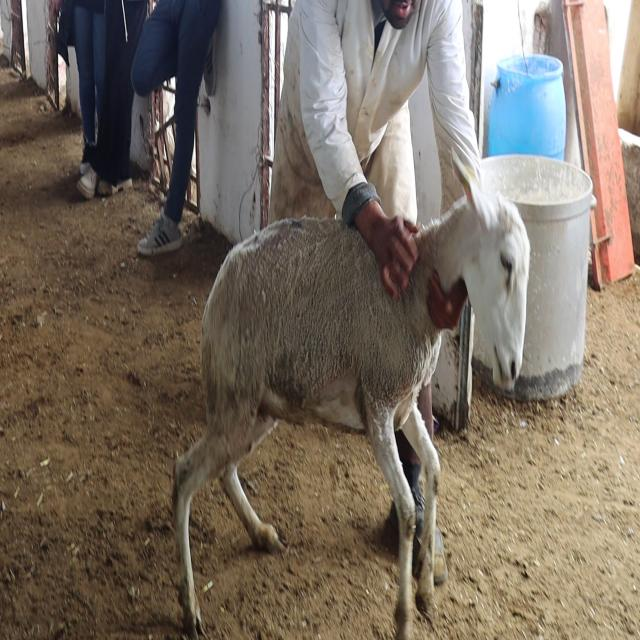Score_1: (173, 192, 530, 639)
